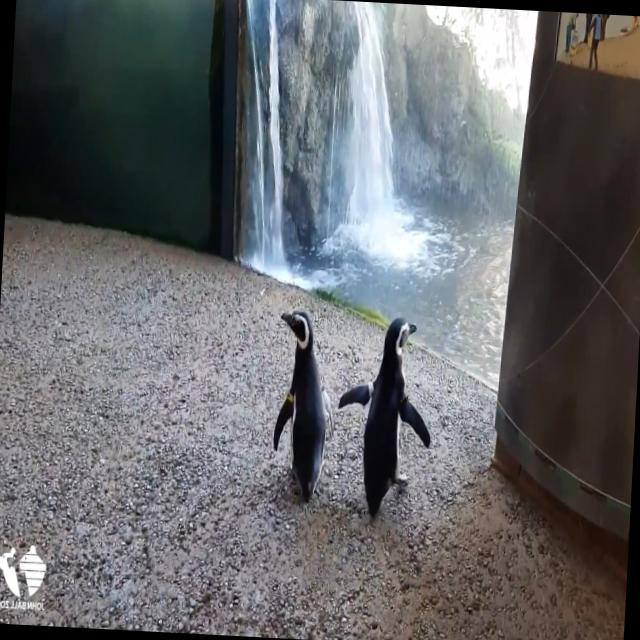penguin: (331, 312, 438, 526), (268, 306, 340, 504)
